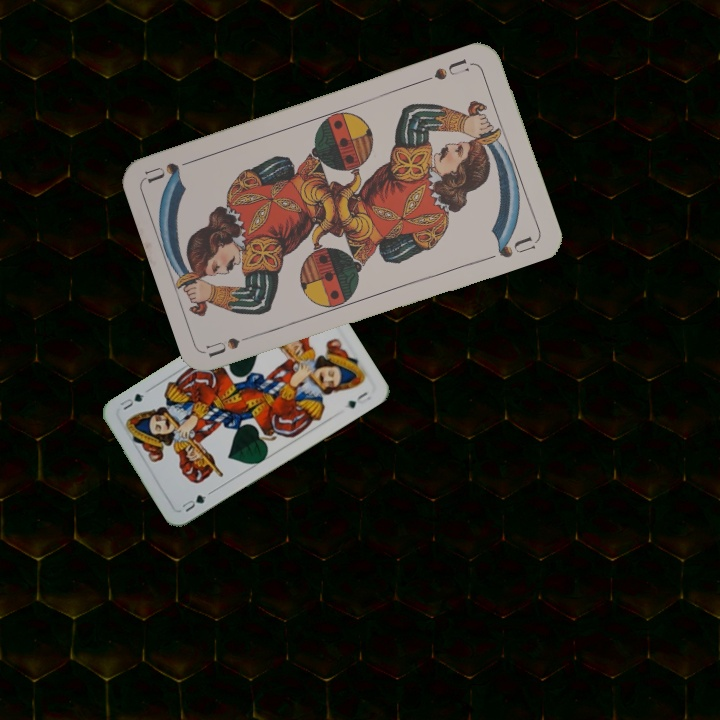GU: (178, 491, 209, 515)
SU: (204, 328, 262, 360), (419, 54, 471, 85)
